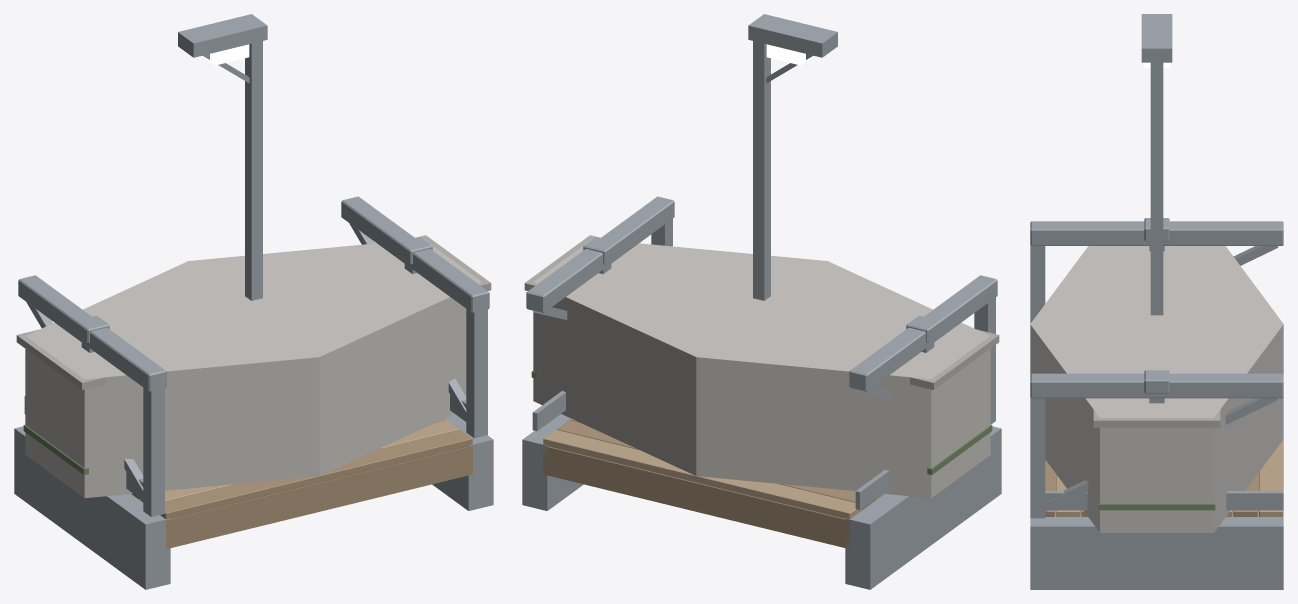
Rendered from footbridge.glb.
3 views of the same model, side by side, from view 1: azimuth 30°, elevation 25°; view 2: azimuth 150°, elevation 25°; view 3: azimuth 270°, elevation 25° (orthographic). The views are drawn at different scales.
Visible parts, largest first — view 1: fb_pier_mesh, fb_bay_mesh, fb_lamp_mesh, fb_post_mesh; view 2: fb_pier_mesh, fb_bay_mesh, fb_lamp_mesh, fb_post_mesh; view 3: fb_pier_mesh, fb_bay_mesh, fb_lamp_mesh, fb_post_mesh.
Part boxes in pixels (x1,y1,x2,y2): fb_pier_mesh: [16, 235, 491, 498]; fb_bay_mesh: [14, 196, 493, 589]; fb_lamp_mesh: [178, 14, 267, 300]; fb_post_mesh: [75, 236, 432, 352]; fb_pier_mesh: [524, 235, 999, 498]; fb_bay_mesh: [522, 196, 1001, 589]; fb_lamp_mesh: [748, 14, 837, 300]; fb_post_mesh: [583, 236, 940, 352]; fb_pier_mesh: [1030, 246, 1283, 532]; fb_bay_mesh: [1030, 221, 1283, 589]; fb_lamp_mesh: [1141, 14, 1172, 315]; fb_post_mesh: [1144, 218, 1169, 403].
Size of the model in its own units: 3.6 by 4.02 by 2.
